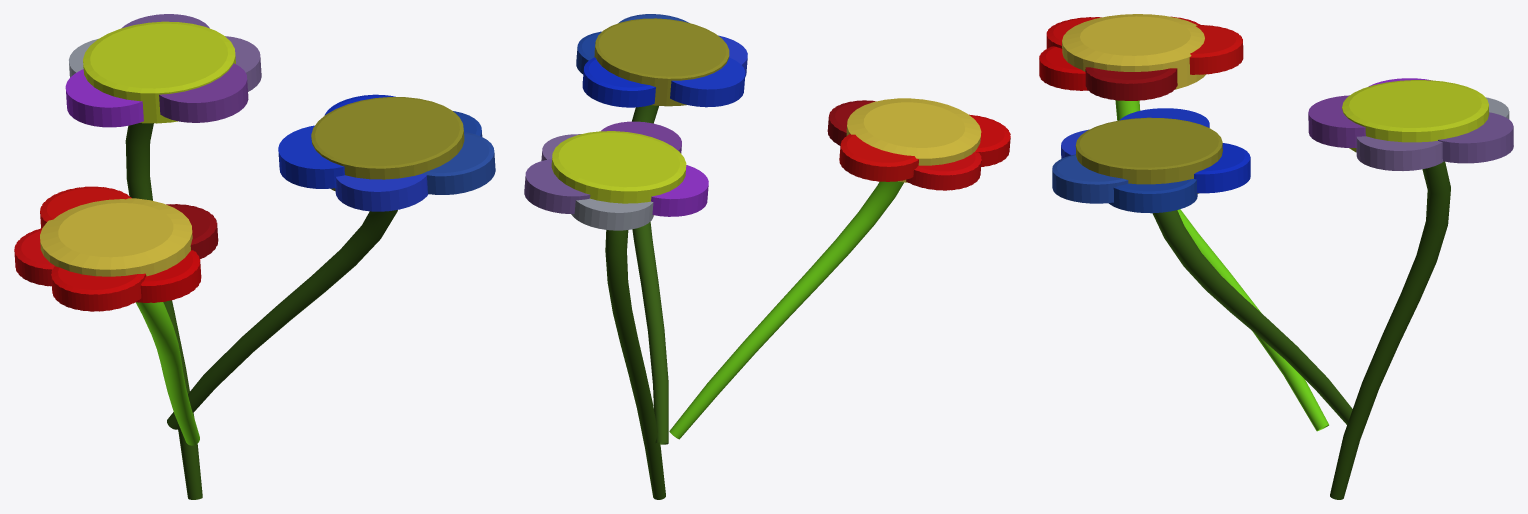
Rendered from flowers.obj.
The picture shows the model from 3 angles, left to right: view 1: azimuth 30°, elevation 25°; view 2: azimuth 150°, elevation 25°; view 3: azimuth 270°, elevation 25°; orthographic projection. The views are drawn at different scales.
Visible parts, largest first — view 1: Cylinder.001_Cylinder.009, Cylinder.012_Cylinder.015, Cylinder, BezierCurve.001, BezierCurve.002, Cylinder.015_Cylinder.018, Cylinder.003, BezierCurve, Cylinder.010_Cylinder.013, Cylinder.002_Cylinder.010, Cylinder.017_Cylinder.020, Cylinder.009_Cylinder.012 (+6 smaller); view 2: Cylinder.012_Cylinder.015, Cylinder.001_Cylinder.009, Cylinder, BezierCurve, BezierCurve.002, BezierCurve.001, Cylinder.006, Cylinder.009_Cylinder.012, Cylinder.011_Cylinder.014, Cylinder.013_Cylinder.016, Cylinder.014_Cylinder.017, Cylinder.007 (+5 smaller); view 3: Cylinder.001_Cylinder.009, Cylinder.012_Cylinder.015, Cylinder, BezierCurve.002, BezierCurve.001, BezierCurve, Cylinder.008, Cylinder.013_Cylinder.016, Cylinder.016_Cylinder.019, Cylinder.002_Cylinder.010, Cylinder.004_Cylinder.011, Cylinder.006 (+5 smaller).
Boxes of the visible parts, x1=… form: Cylinder.001_Cylinder.009: x1=311, y1=97, x2=464, y2=191; Cylinder.012_Cylinder.015: x1=83, y1=21, x2=235, y2=123; Cylinder: x1=40, y1=198, x2=192, y2=276; BezierCurve.001: x1=167, y1=210, x2=397, y2=429; BezierCurve.002: x1=125, y1=123, x2=202, y2=499; Cylinder.015_Cylinder.018: x1=159, y1=63, x2=248, y2=122; Cylinder.003: x1=51, y1=266, x2=146, y2=311; BezierCurve: x1=136, y1=302, x2=199, y2=445; Cylinder.010_Cylinder.013: x1=335, y1=174, x2=428, y2=211; Cylinder.002_Cylinder.010: x1=422, y1=132, x2=495, y2=194; Cylinder.017_Cylinder.020: x1=65, y1=69, x2=143, y2=127; Cylinder.009_Cylinder.012: x1=278, y1=125, x2=344, y2=188; Cylinder.012_Cylinder.015: x1=551, y1=131, x2=686, y2=215; Cylinder.001_Cylinder.009: x1=594, y1=18, x2=729, y2=106; Cylinder: x1=846, y1=98, x2=981, y2=182; BezierCurve: x1=669, y1=181, x2=903, y2=439; BezierCurve.002: x1=605, y1=230, x2=665, y2=499; BezierCurve.001: x1=632, y1=105, x2=668, y2=444; Cylinder.006: x1=839, y1=134, x2=918, y2=181; Cylinder.009_Cylinder.012: x1=670, y1=57, x2=745, y2=107; Cylinder.011_Cylinder.014: x1=582, y1=57, x2=655, y2=107; Cylinder.013_Cylinder.016: x1=524, y1=159, x2=590, y2=213; Cylinder.014_Cylinder.017: x1=571, y1=198, x2=653, y2=230; Cylinder.007: x1=906, y1=152, x2=981, y2=190; Cylinder.001_Cylinder.009: x1=1075, y1=117, x2=1222, y2=193; Cylinder.012_Cylinder.015: x1=1342, y1=80, x2=1489, y2=152; Cylinder: x1=1062, y1=14, x2=1205, y2=89; BezierCurve.002: x1=1330, y1=161, x2=1450, y2=499; BezierCurve.001: x1=1152, y1=210, x2=1352, y2=424; BezierCurve: x1=1115, y1=100, x2=1328, y2=431; Cylinder.008: x1=1085, y1=67, x2=1177, y2=100; Cylinder.013_Cylinder.016: x1=1438, y1=112, x2=1513, y2=163; Cylinder.016_Cylinder.019: x1=1356, y1=136, x2=1443, y2=170; Cylinder.002_Cylinder.010: x1=1052, y1=154, x2=1128, y2=203; Cylinder.004_Cylinder.011: x1=1109, y1=179, x2=1197, y2=213; Cylinder.006: x1=1189, y1=25, x2=1243, y2=74.
Size of the model in its own units: 3.45 by 3.06 by 3.26.
